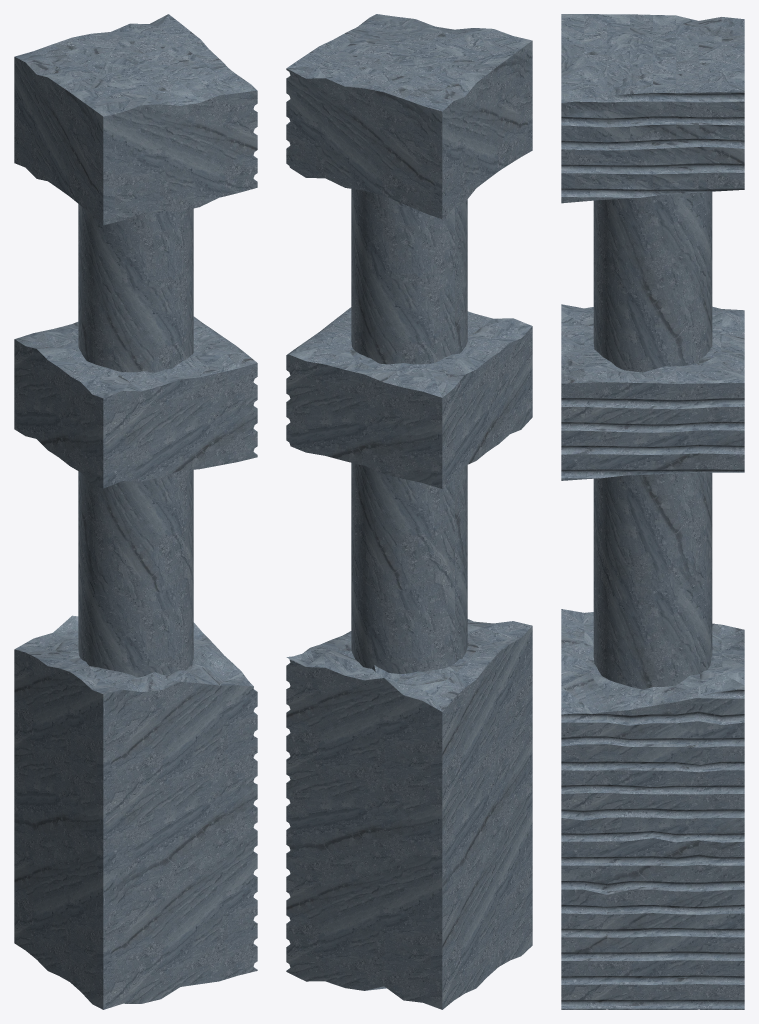
Rendered from preview.glb.
3 views of the same model, side by side, from view 1: azimuth 30°, elevation 25°; view 2: azimuth 150°, elevation 25°; view 3: azimuth 270°, elevation 25° (orthographic). The views are drawn at different scales.
Visible parts, largest first — view 1: Material2; view 2: Material2; view 3: Material2.
Boxes of the visible parts, left/top/right/bottom form: Material2: left=14, top=14, right=257, bottom=1009; Material2: left=286, top=14, right=532, bottom=1009; Material2: left=561, top=14, right=744, bottom=1009.
Size of the model in its own units: 33.64 by 186 by 33.46.
2 materials, 1 textured.
